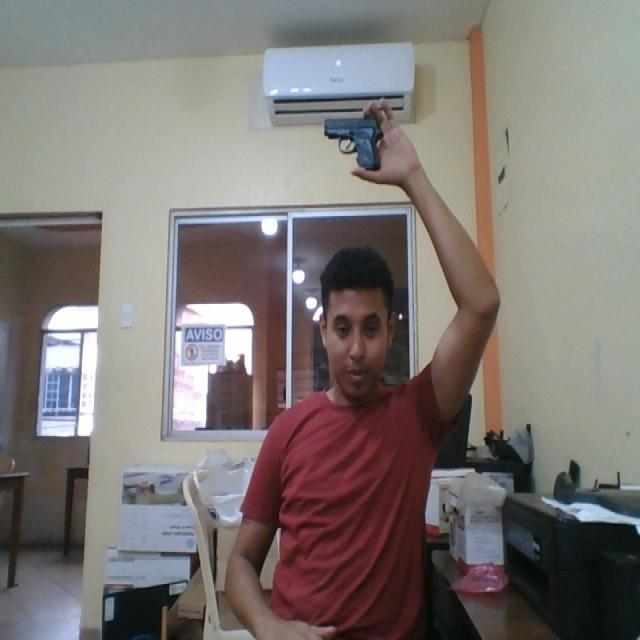weapon: (323, 114, 386, 172)
